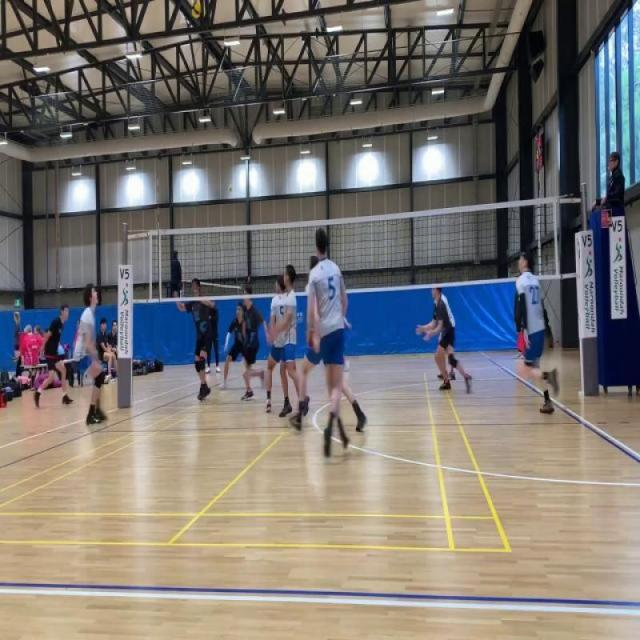volleyball: (191, 0, 202, 19), (228, 184, 232, 192)
